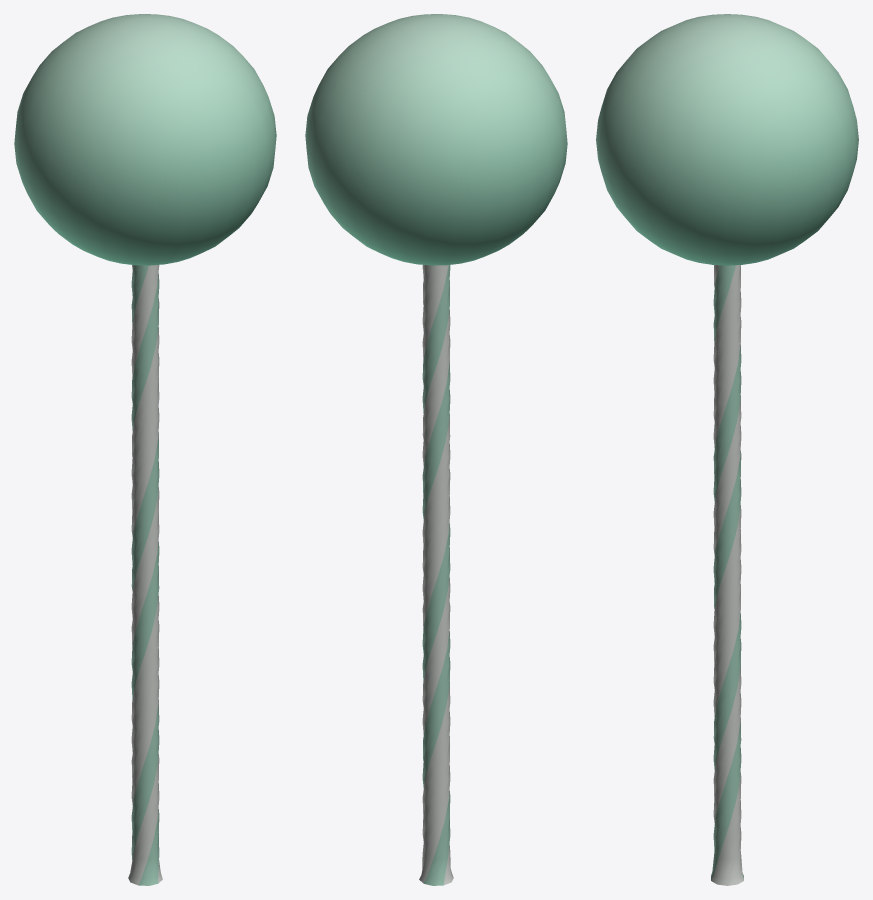
Rendered from lollipop_tree.glb.
3 renders of one model, left to right at view 1: azimuth 30°, elevation 25°; view 2: azimuth 150°, elevation 25°; view 3: azimuth 270°, elevation 25°, orthographic.
Parts seen in each view (by area): view 1: lollipop_tree; view 2: lollipop_tree; view 3: lollipop_tree.
Part boxes in pixels (left/top/right/bottom): lollipop_tree: left=14, top=14, right=276, bottom=885; lollipop_tree: left=305, top=14, right=567, bottom=885; lollipop_tree: left=596, top=14, right=858, bottom=885.
Bounding box in the file's own units: 1.6 × 5.72 × 1.6.
